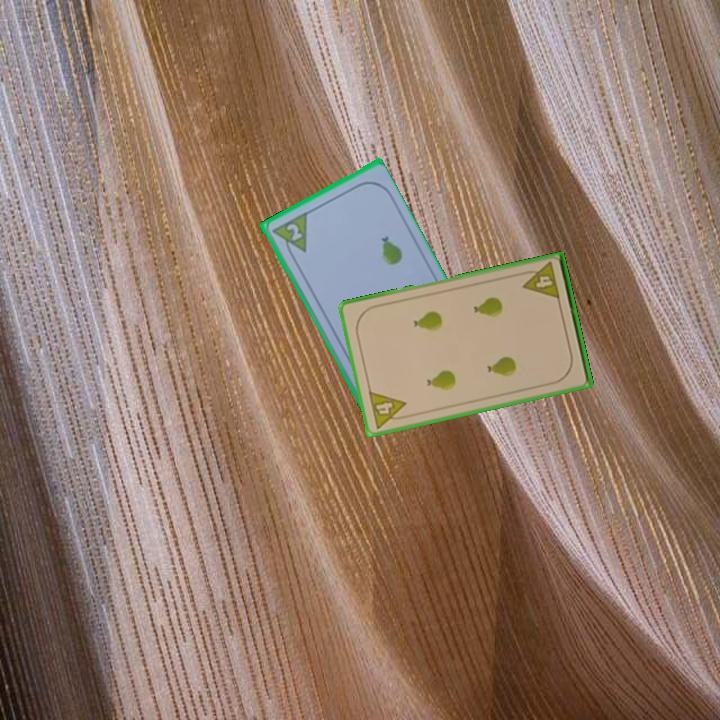2p: (267, 209, 310, 261)
4p: (517, 258, 563, 303), (365, 387, 411, 431)
